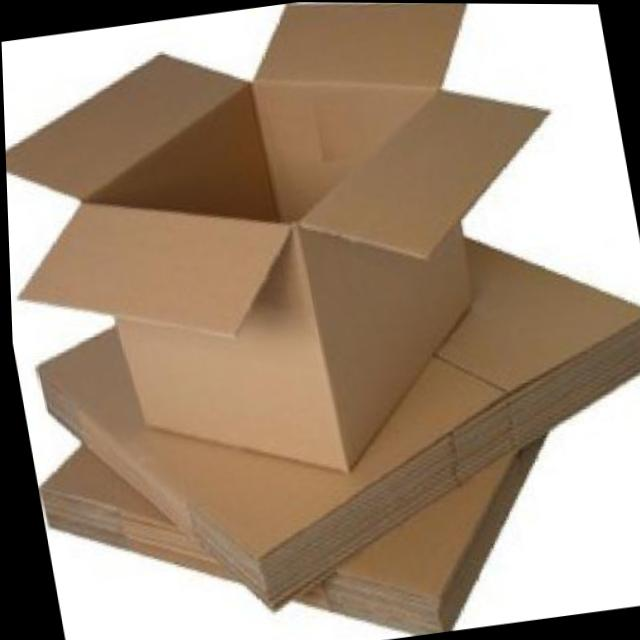box: (0, 0, 608, 521), (6, 204, 640, 640), (28, 395, 578, 640)
